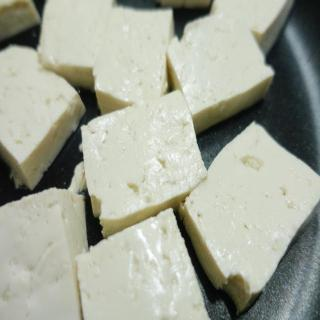Tahu: (63, 97, 231, 229)
